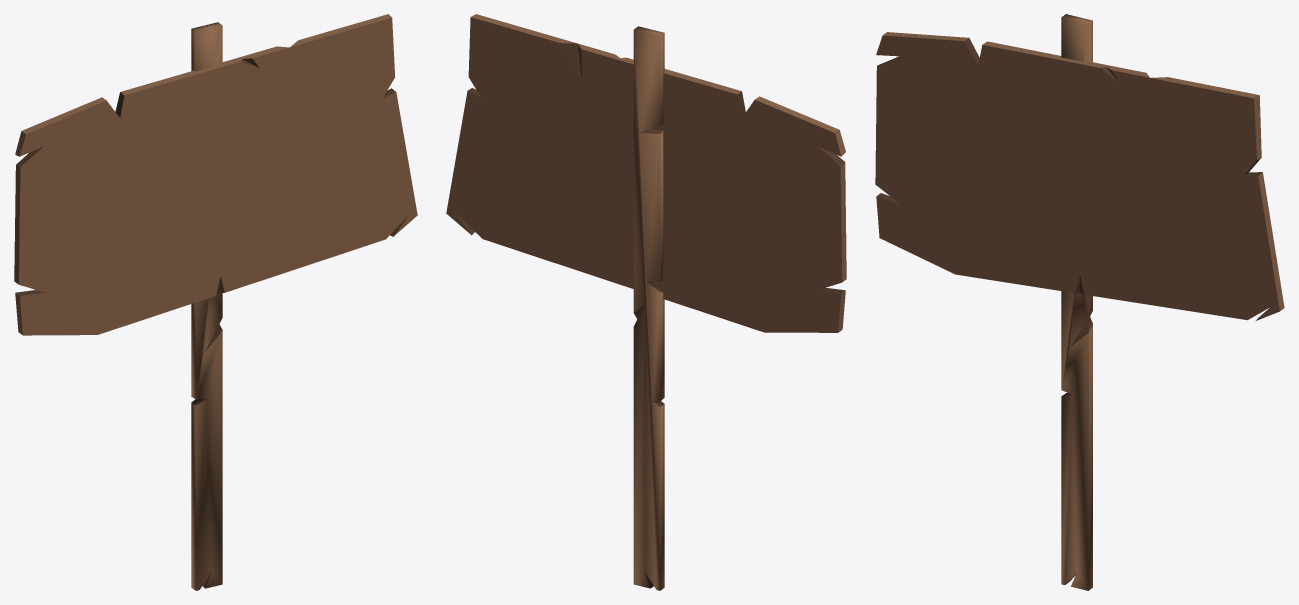
Rendered from Sign_2_Light_Brown.fbx.
3 views of the same model, side by side, from view 1: azimuth 30°, elevation 25°; view 2: azimuth 150°, elevation 25°; view 3: azimuth 330°, elevation 25° (orthographic). The views are drawn at different scales.
Parts seen in each view (by area): view 1: Sign_2_Light_Brown; view 2: Sign_2_Light_Brown; view 3: Sign_2_Light_Brown.
Part boxes in pixels (x1=…): Sign_2_Light_Brown: x1=14, y1=14, x2=417, y2=590; Sign_2_Light_Brown: x1=446, y1=14, x2=846, y2=590; Sign_2_Light_Brown: x1=875, y1=14, x2=1284, y2=590.
Bounding box in the file's own units: 149 × 200 × 5.
